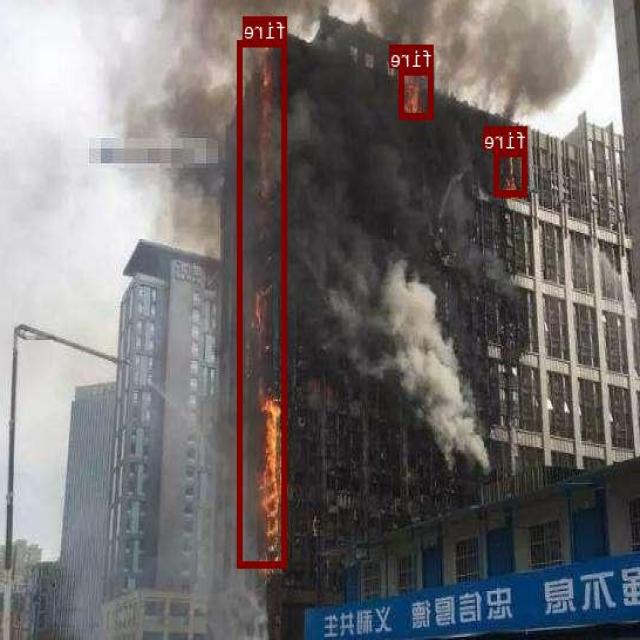fire: (239, 39, 288, 567), (400, 68, 434, 119), (495, 148, 528, 195)
